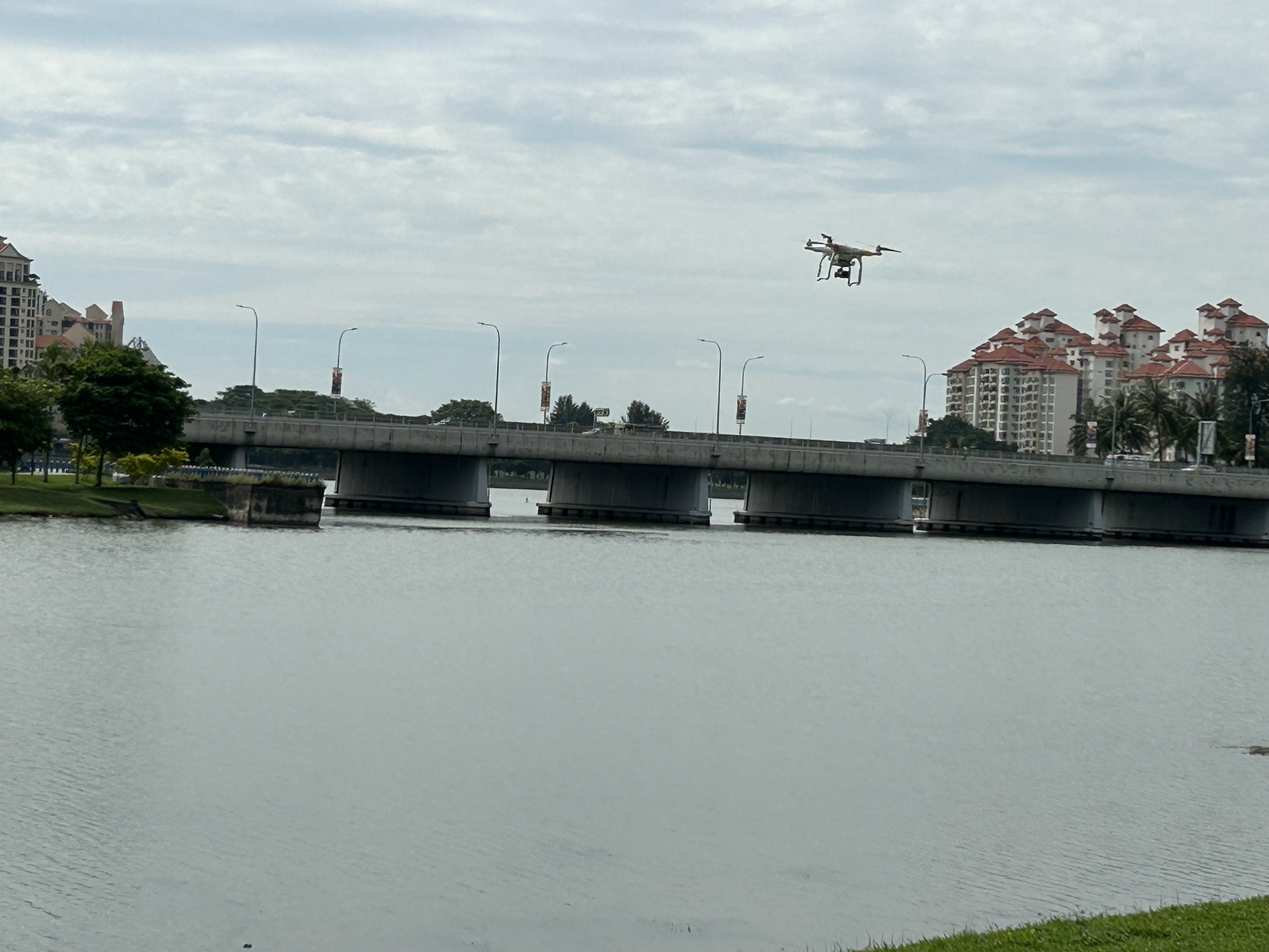drone_other: (800, 228, 900, 291)
